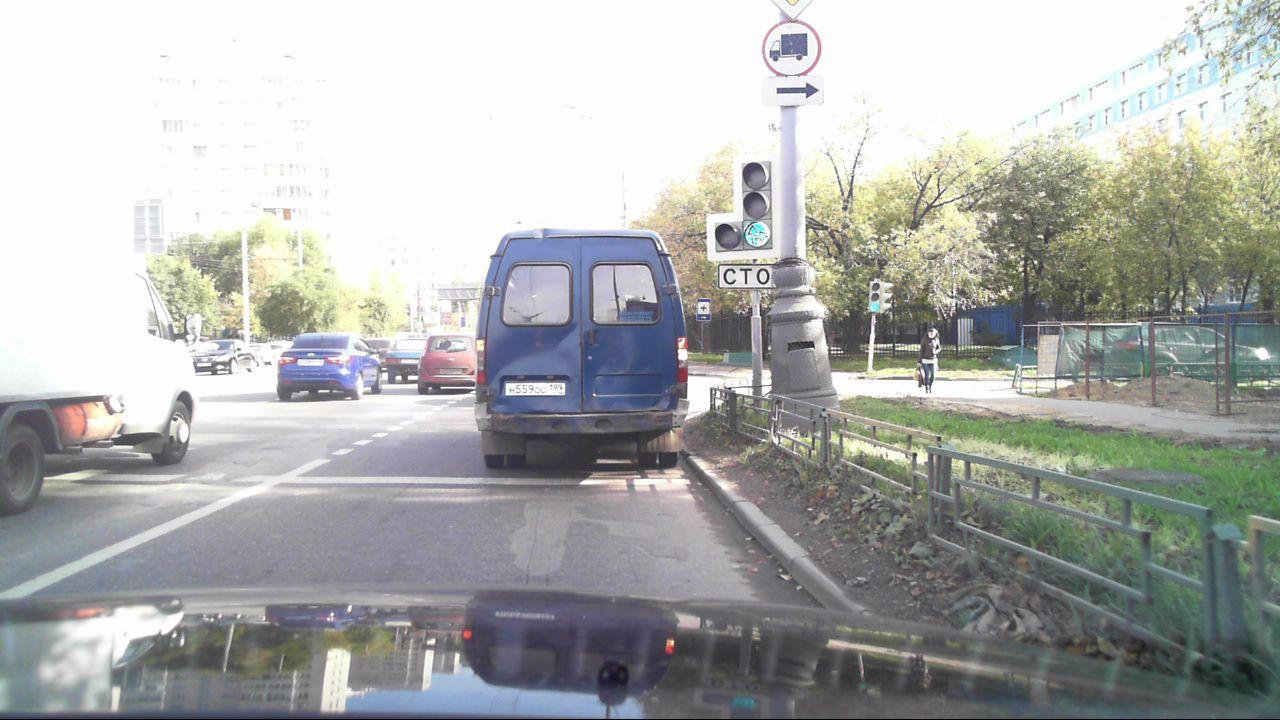2_1: (764, 0, 824, 17)
3_4: (762, 21, 824, 74)
6_16: (716, 265, 777, 291)
7_1: (696, 297, 712, 322)
8_3_1: (767, 77, 828, 105)
